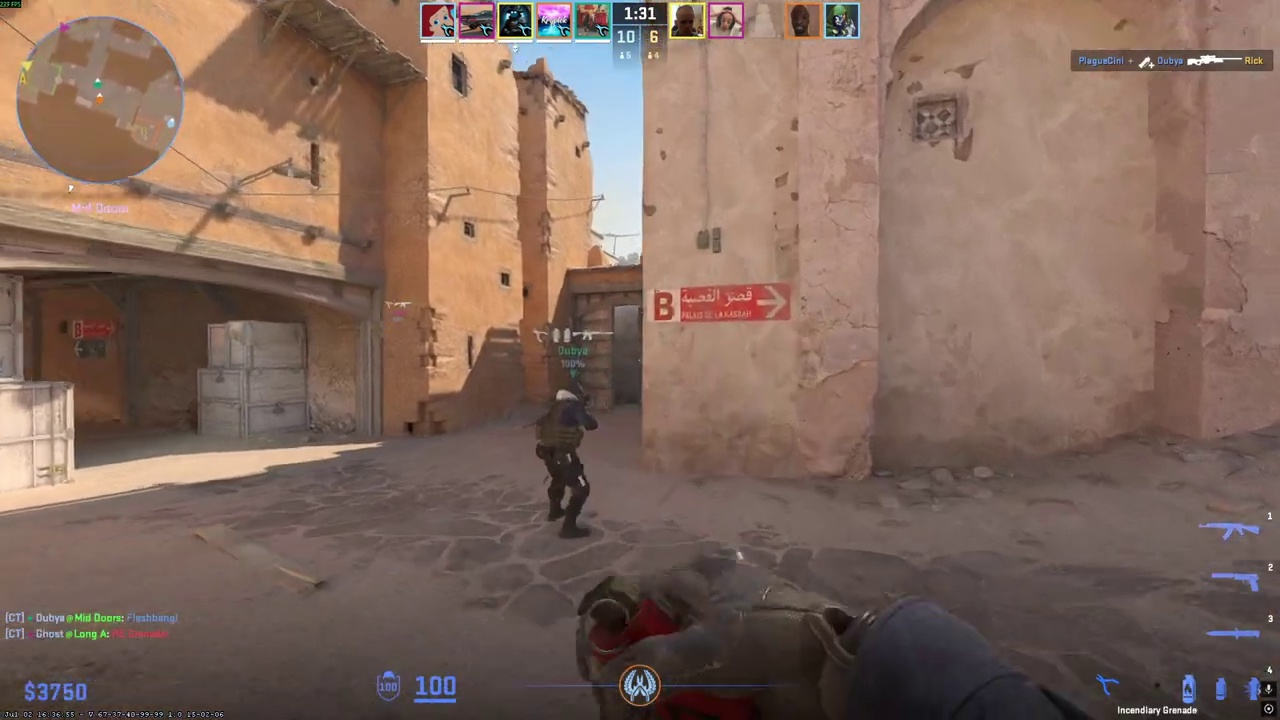CT: (535, 381, 598, 539)
